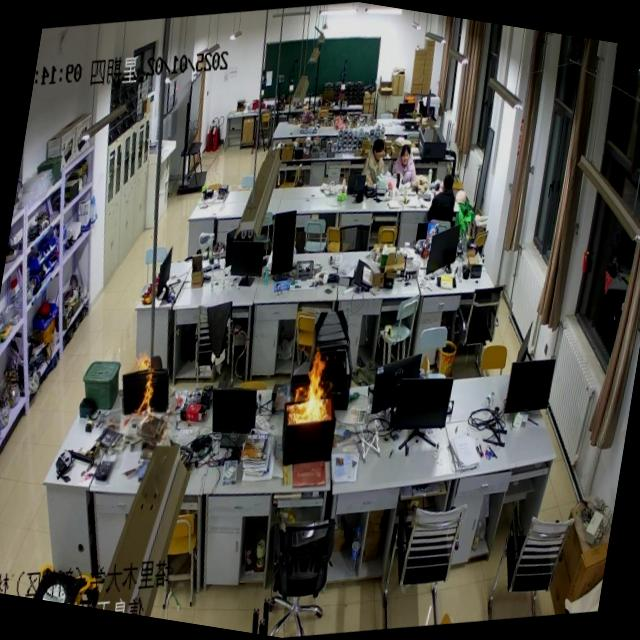fire: (272, 344, 342, 463), (120, 348, 164, 428)
